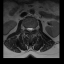CCS_normal: (29, 25, 31, 34)
LFS_normal: (33, 26, 35, 31)
LLS_normal: (31, 25, 33, 32)
RFS_normal: (25, 25, 27, 31)
RLS_normal: (27, 25, 29, 32)
